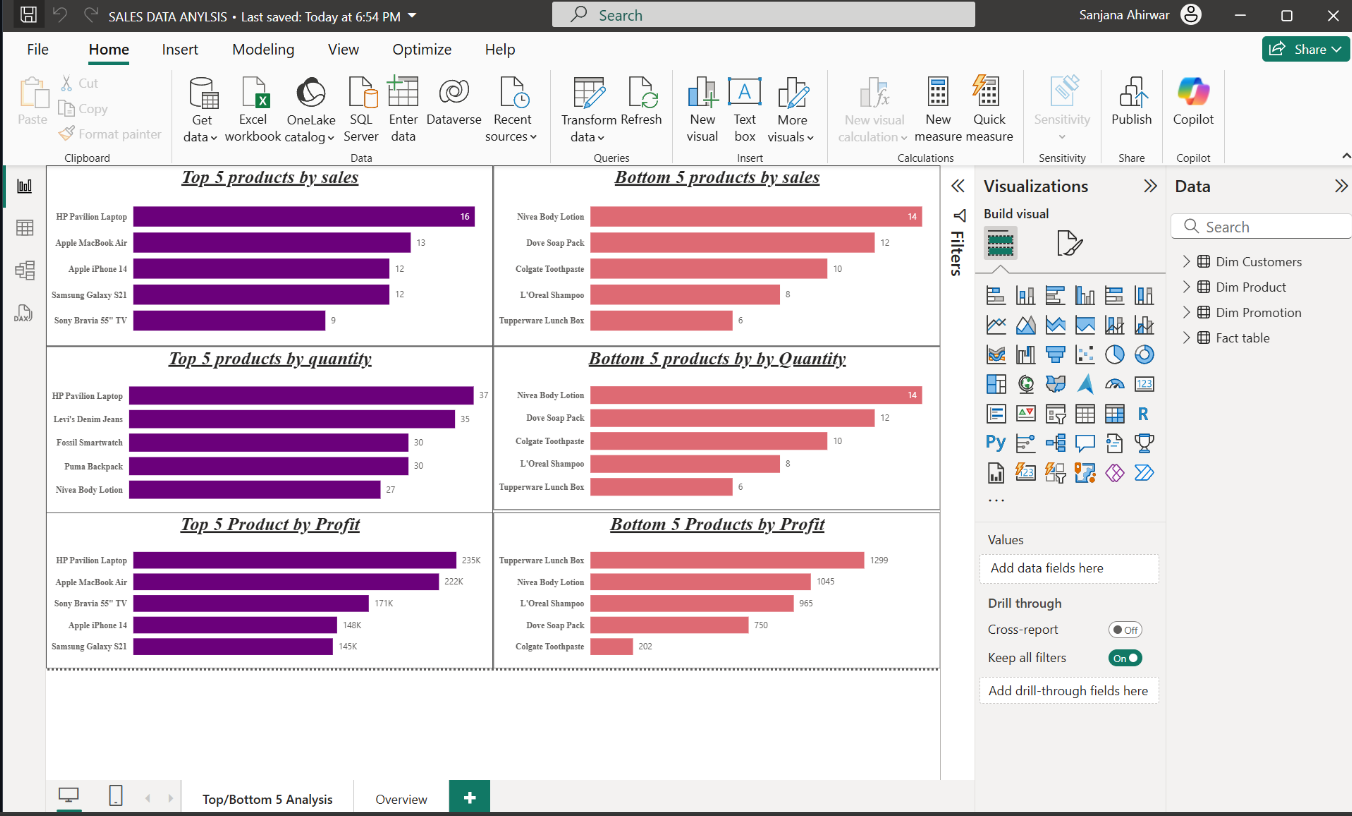

What the dashboard file says about the page in this screenshot:
{"tool":"powerbi","page":{"name":"Top/Bottom 5 Analysis","canvas":[1280,720],"ordinal":0},"visuals":[{"type":"barChart","title":"Top 5 products by sales","fields":{"Category":["Dim Product.Product Name"],"Y":["CountNonNull(Fact table.Net Sales  )"]},"box":[0,0,640,258.5],"z":0},{"type":"barChart","title":"Bottom 5 products by sales","fields":{"Category":["Dim Product.Product Name"],"Y":["CountNonNull(Fact table.Net Sales  )"]},"box":[640,0,640,258.5],"z":1000},{"type":"barChart","title":"Top 5 products by quantity","fields":{"Category":["Dim Product.Product Name"],"Y":["Sum(Fact table.Units Sold)"]},"box":[0,258.5,640,238.5],"z":2000},{"type":"barChart","title":"Bottom 5 products by by Quantity","fields":{"Category":["Dim Product.Product Name"],"Y":["CountNonNull(Fact table.Net Sales  )"]},"box":[640,258.5,640,233.8],"z":3000},{"type":"barChart","title":"Top 5 Product by Profit","fields":{"Category":["Dim Product.Product Name"],"Y":["Sum(Fact table.Profit)"]},"box":[0,496.9,640,223.1],"z":4000},{"type":"barChart","title":"Bottom 5 Products by Profit","fields":{"Category":["Dim Product.Product Name"],"Y":["Sum(Fact table.Profit)"]},"box":[640,496.9,640,223.1],"z":5000}]}

Visuals, with their boxes on the page's 1280x720 design canvas (x1, y1, x2, y2). These are canvas units, not pixel positions in the 1352x816 screenshot, which may show the page scaled, cropped or inside an application window:
"Top 5 products by sales" barChart: box=[0, 0, 640, 258]
"Bottom 5 products by sales" barChart: box=[640, 0, 1280, 258]
"Top 5 products by quantity" barChart: box=[0, 258, 640, 497]
"Bottom 5 products by by Quantity" barChart: box=[640, 258, 1280, 492]
"Top 5 Product by Profit" barChart: box=[0, 497, 640, 720]
"Bottom 5 Products by Profit" barChart: box=[640, 497, 1280, 720]
